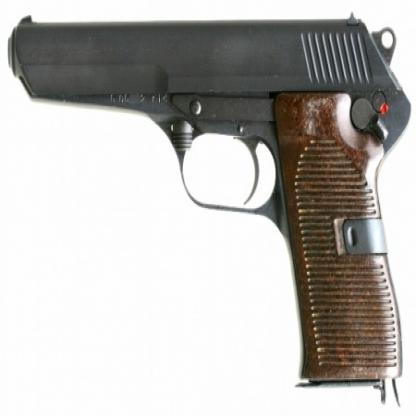Guns: (1, 0, 415, 415)
